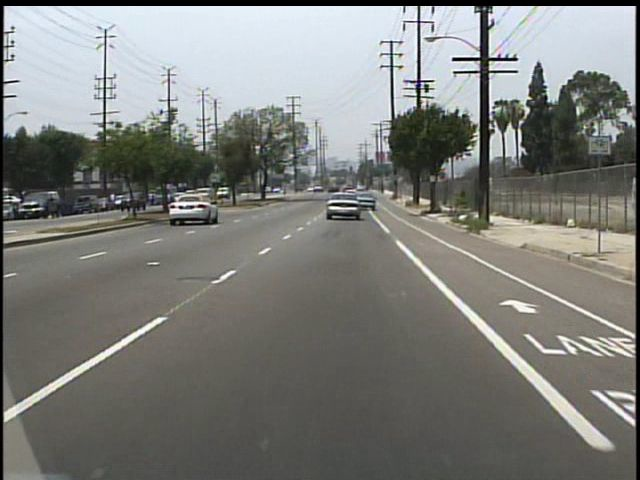person: (110, 191, 119, 210)
